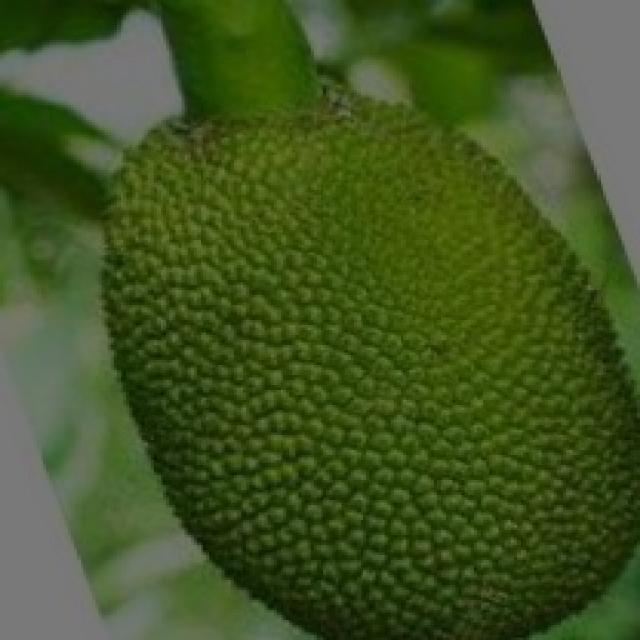Fruit: (274, 247, 637, 640)
